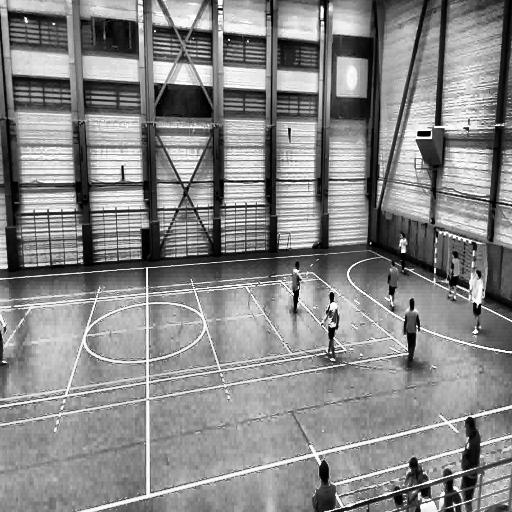ball: (367, 240, 373, 249)
player: (461, 418, 482, 512), (322, 290, 340, 362), (403, 297, 420, 367), (470, 270, 484, 334), (0, 292, 9, 367), (448, 251, 460, 303), (291, 260, 302, 314), (388, 260, 399, 312), (398, 232, 408, 274)
